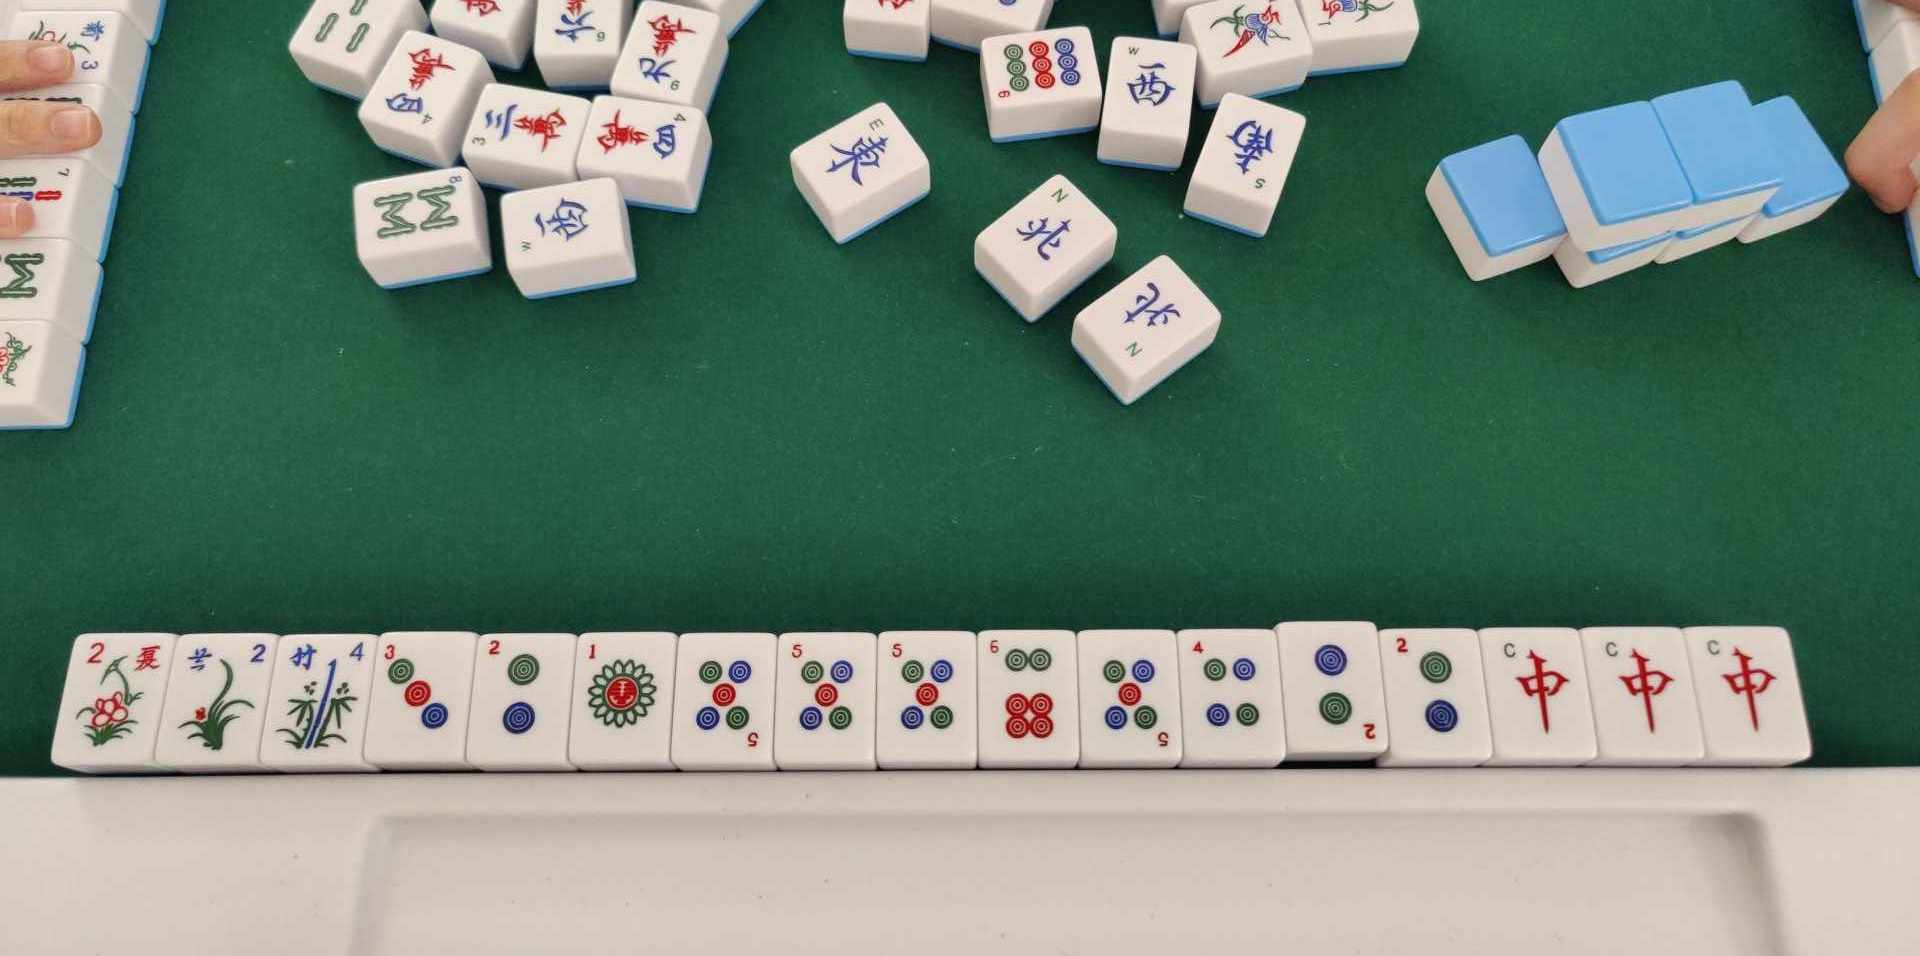circle-five: (675, 634, 775, 763), (877, 630, 976, 758), (775, 633, 874, 760), (1082, 630, 1174, 755)
circle-four: (1184, 632, 1275, 752)
circle-one: (574, 635, 673, 763)
circle-six: (981, 633, 1074, 756)
circle-three: (376, 637, 468, 763)
circle-two: (471, 637, 572, 761), (1284, 624, 1379, 749), (1389, 630, 1474, 752)
flower-blue_four: (276, 637, 373, 761)
flower-blue_two: (167, 637, 273, 763)
flower-red_two: (70, 638, 160, 761)
honor-red_dragon: (1485, 630, 1581, 756), (1597, 633, 1681, 752), (1707, 633, 1783, 745)
